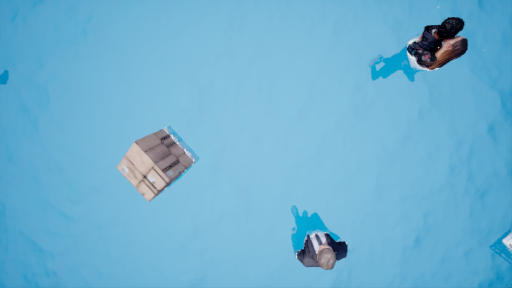person: (371, 18, 469, 93), (286, 198, 349, 266)
